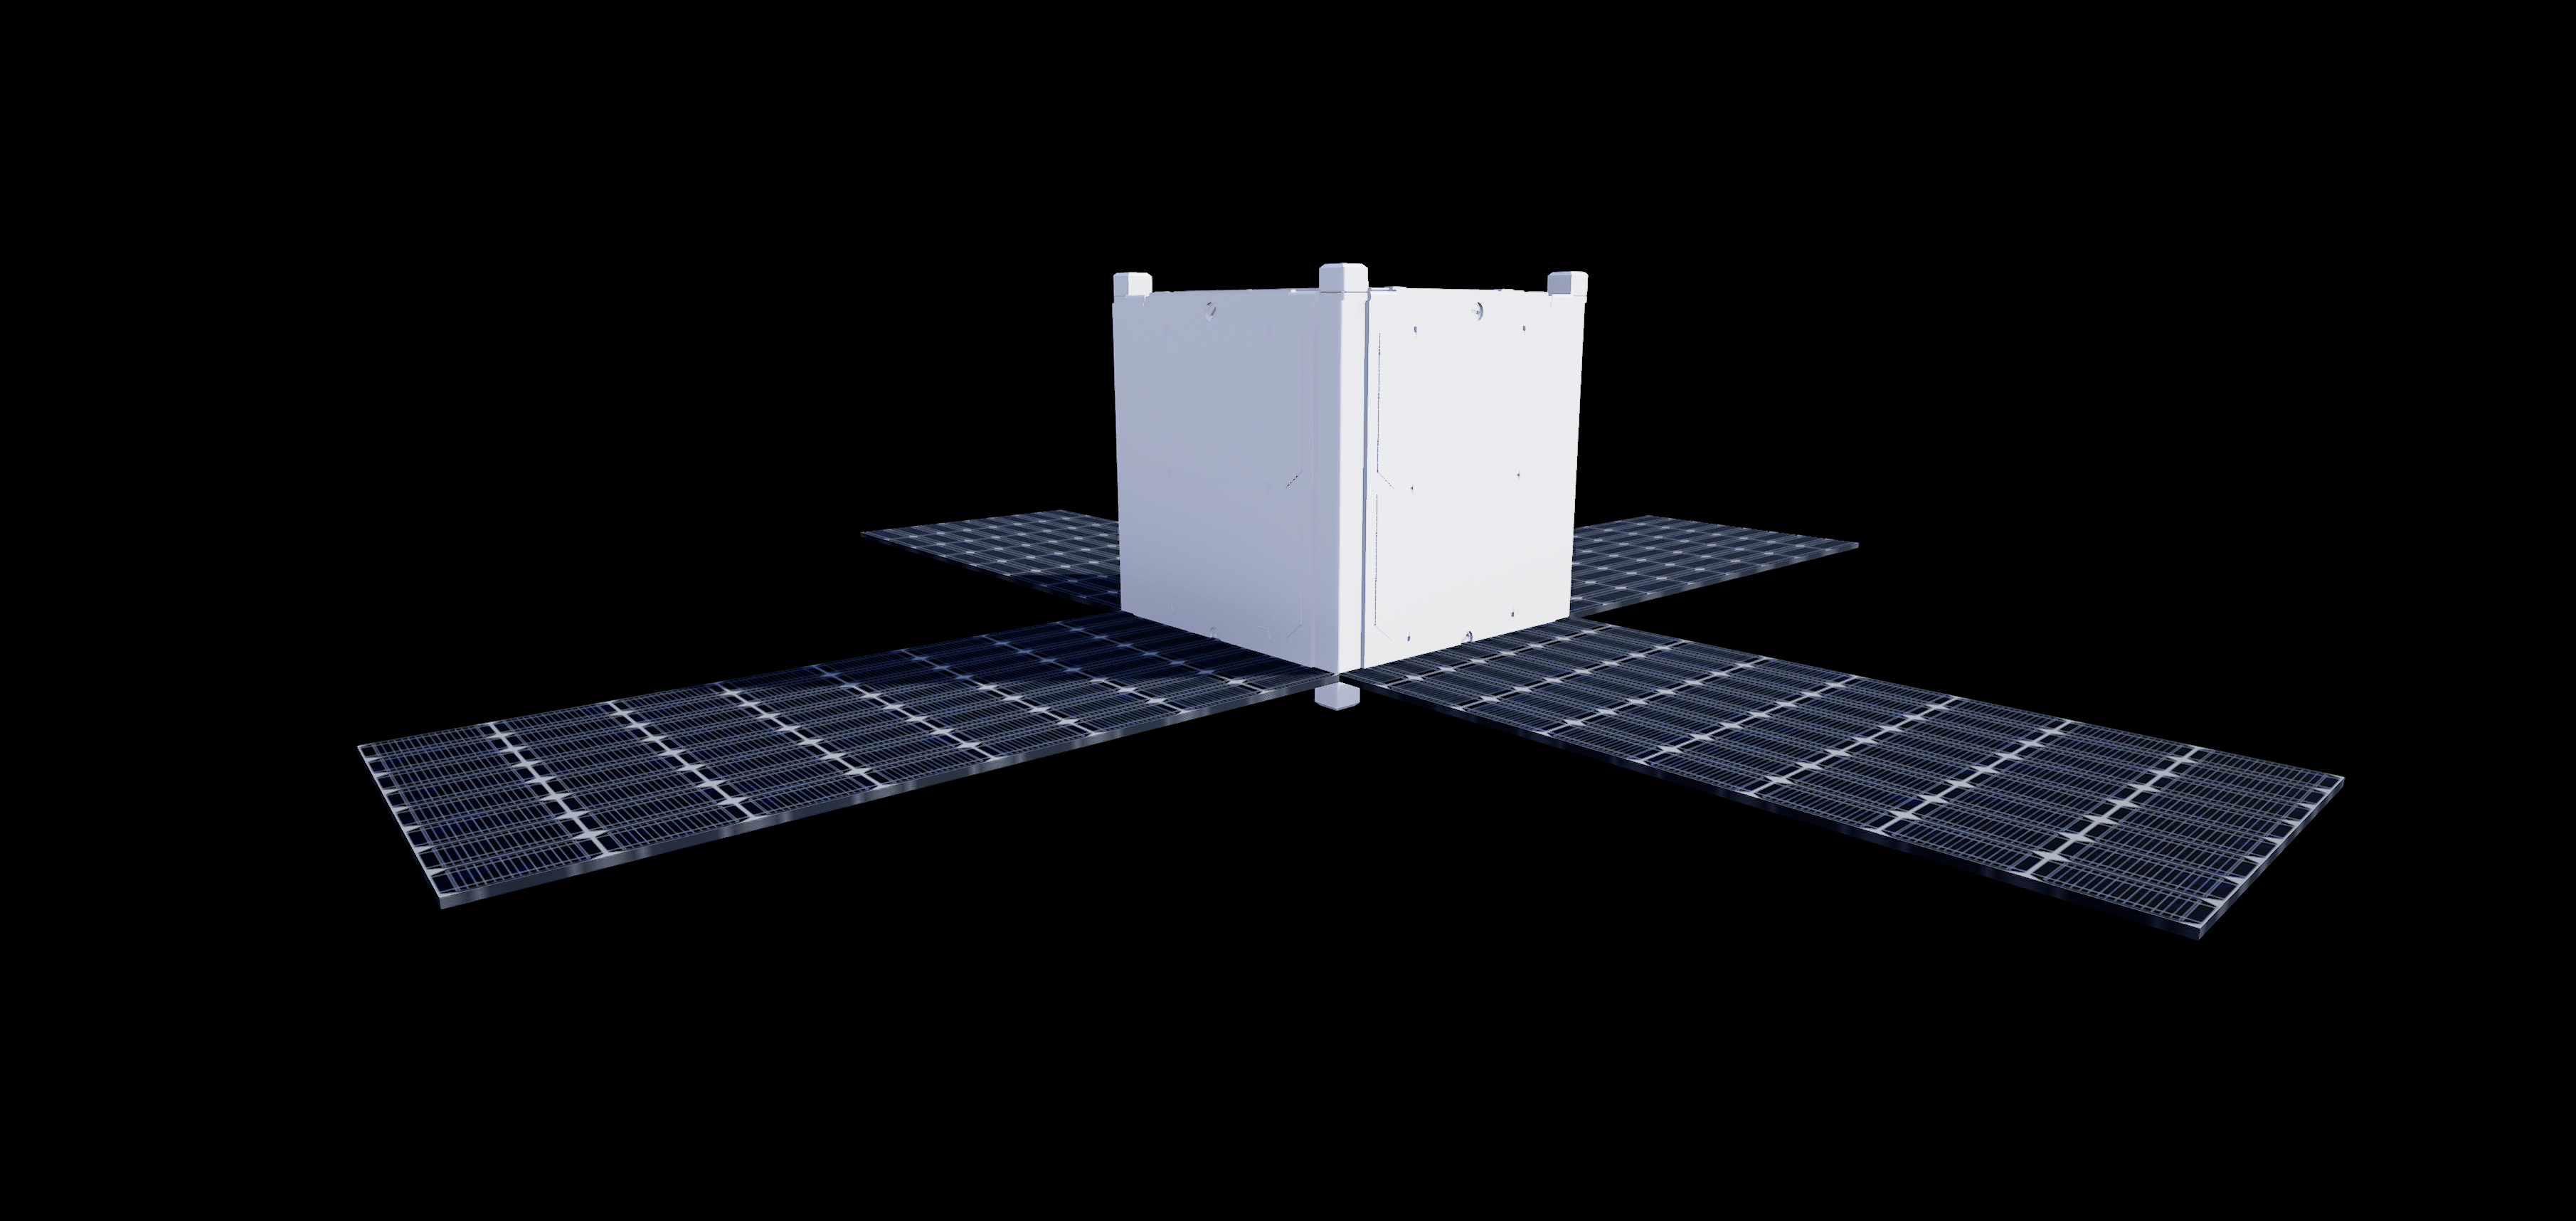satellite: (319, 207, 2374, 950)
